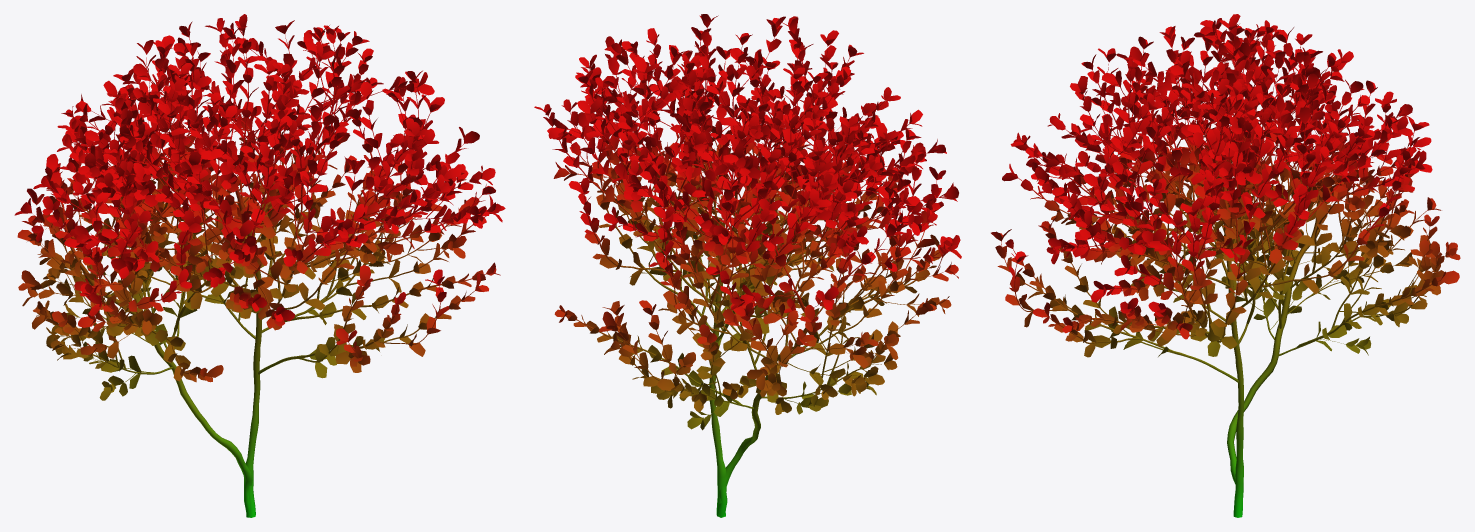
File: Var2_LOD1.fbx
3 renders of one model, left to right at view 1: azimuth 30°, elevation 25°; view 2: azimuth 150°, elevation 25°; view 3: azimuth 270°, elevation 25°, orthographic.
Visible parts, largest first — view 1: _wbjo_Var2_LOD1; view 2: _wbjo_Var2_LOD1; view 3: _wbjo_Var2_LOD1.
Boxes of the visible parts, x1,y1,x2,y2 form: _wbjo_Var2_LOD1: (14,14,505,517); _wbjo_Var2_LOD1: (534,14,961,517); _wbjo_Var2_LOD1: (991,14,1460,517).
Bounding box in the file's own units: 69.77 × 78.22 × 70.2.
